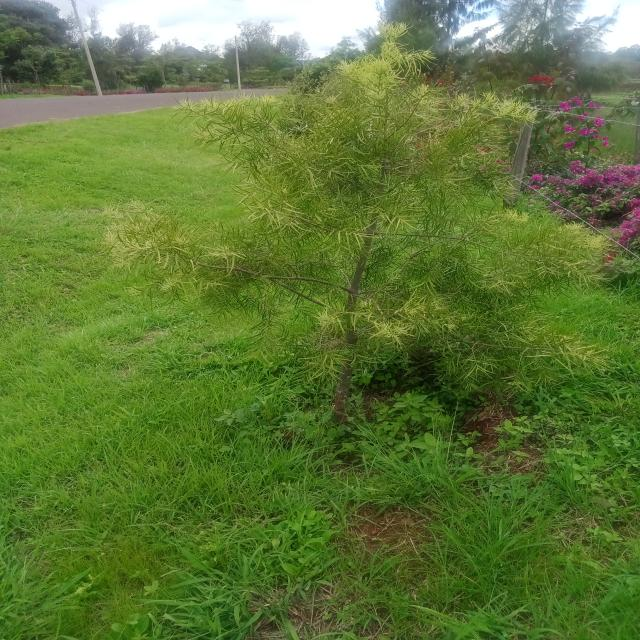Podocarpus falcatus: (120, 53, 608, 447)
